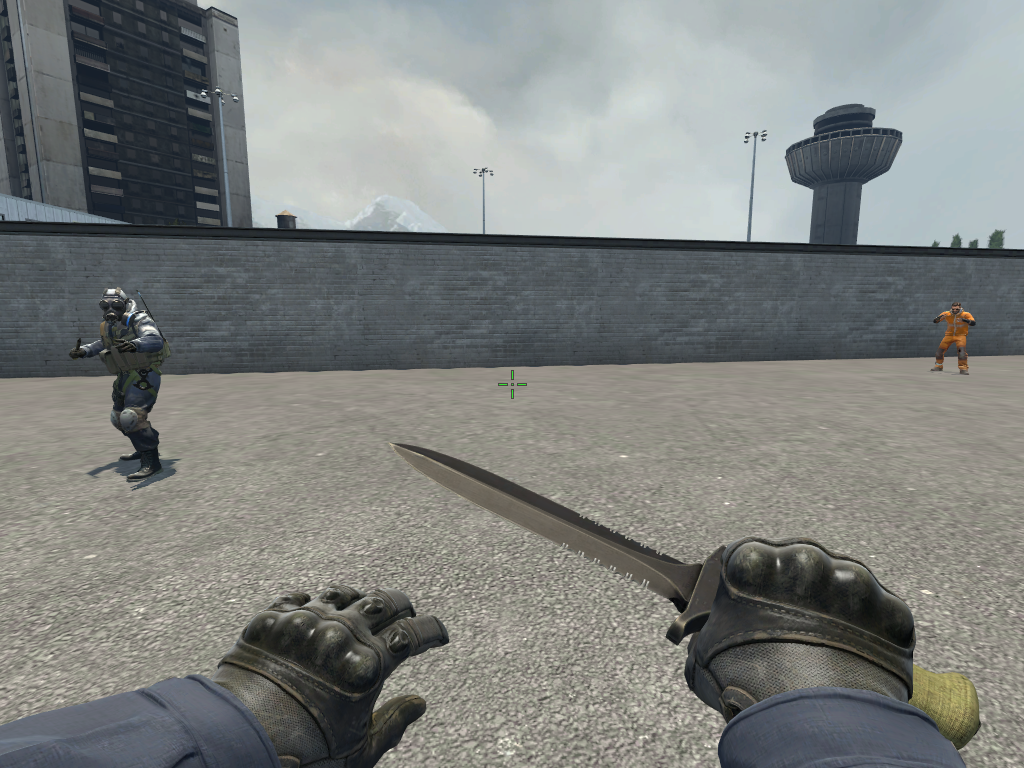ct head: (97, 287, 131, 324)
tr head: (950, 301, 962, 316)
